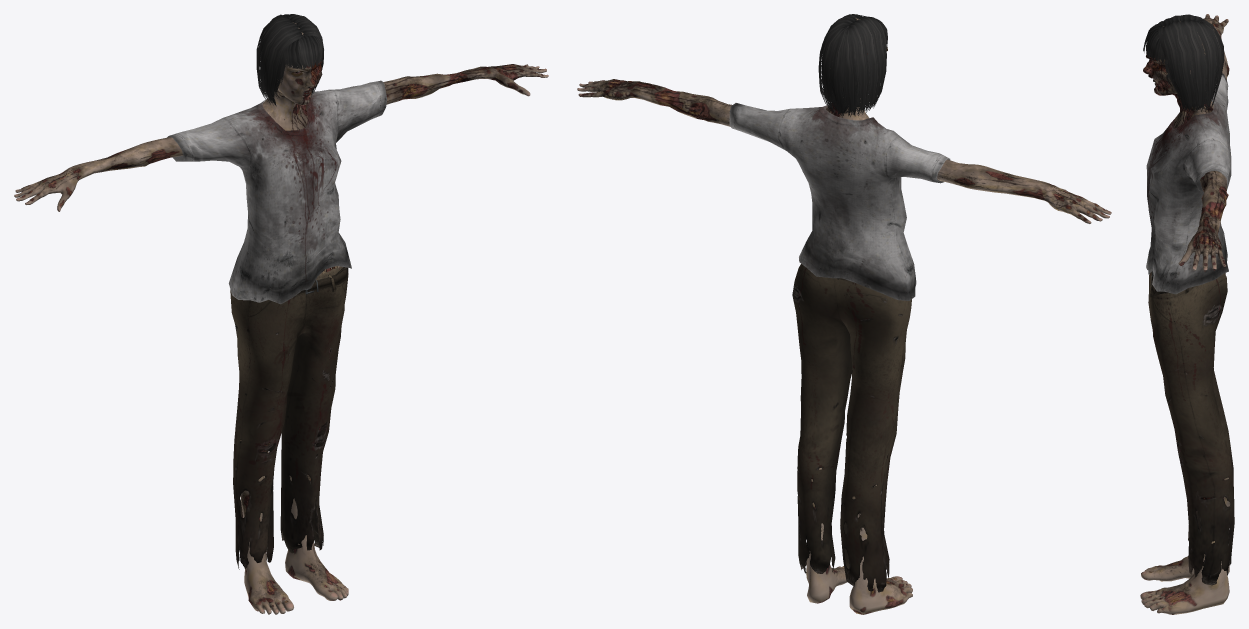
The model's file is zombielady.obj.
3 renders of one model, left to right at view 1: azimuth 30°, elevation 25°; view 2: azimuth 150°, elevation 25°; view 3: azimuth 270°, elevation 25°, orthographic.
Parts seen in each view (by area): view 1: Bottoms, Tops, Body, Hair; view 2: Bottoms, Tops, Body, Hair; view 3: Bottoms, Tops, Body, Hair.
Boxes of the visible parts, left/top/right/bottom form: Bottoms: left=230, top=266, right=348, bottom=569; Tops: left=167, top=80, right=387, bottom=304; Body: left=14, top=22, right=548, bottom=614; Hair: left=256, top=14, right=323, bottom=106; Bottoms: left=792, top=264, right=911, bottom=592; Tops: left=729, top=103, right=950, bottom=300; Body: left=577, top=18, right=1111, bottom=614; Hair: left=818, top=14, right=887, bottom=117; Bottoms: left=1148, top=271, right=1234, bottom=585; Tops: left=1146, top=73, right=1231, bottom=294; Body: left=1140, top=14, right=1230, bottom=614; Hair: left=1143, top=14, right=1224, bottom=111.
Bounding box in the file's own units: 167 × 174 × 25.81.
Materials: 2 (2 with a texture image).
